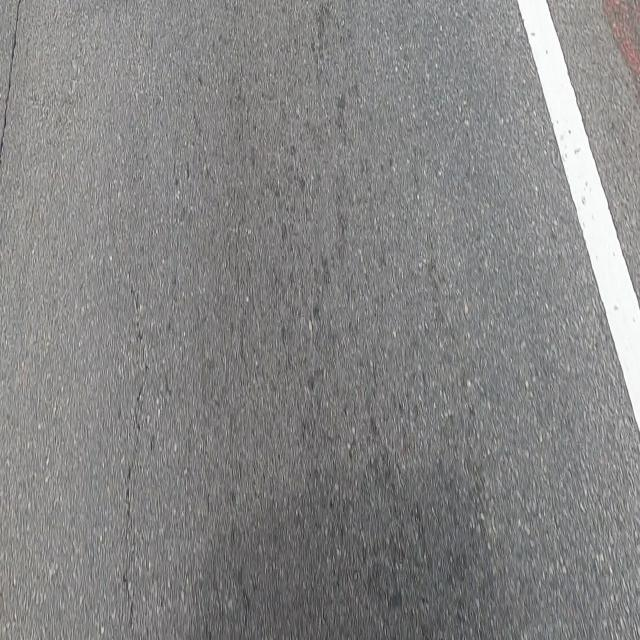Retak-Memanjang: (118, 275, 148, 624), (0, 0, 20, 164)
